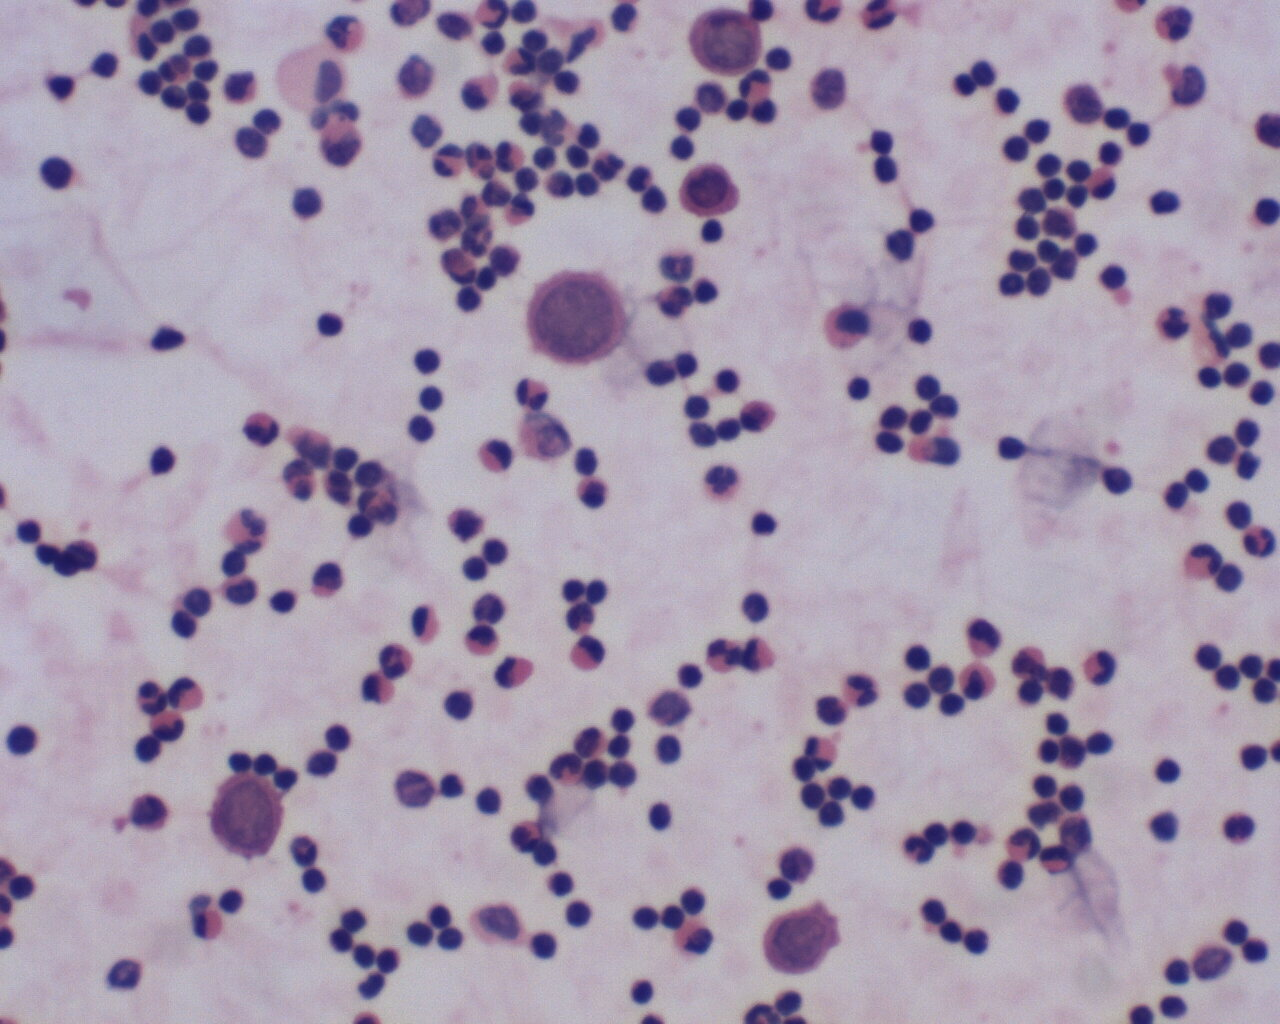ab: (526, 265, 632, 371), (208, 769, 289, 860), (757, 901, 841, 978), (685, 6, 766, 77), (674, 156, 742, 218)
lymph: (735, 586, 772, 628), (406, 343, 445, 379), (649, 732, 688, 769), (871, 153, 908, 189), (1096, 259, 1132, 296), (709, 360, 747, 395), (311, 306, 346, 342), (267, 584, 304, 616), (905, 312, 938, 347), (563, 900, 598, 932), (1151, 752, 1184, 786)
neutro: (236, 406, 287, 450), (370, 638, 416, 681), (843, 667, 885, 711), (488, 138, 532, 180), (1080, 644, 1121, 689), (1237, 521, 1279, 563), (127, 679, 168, 717)
